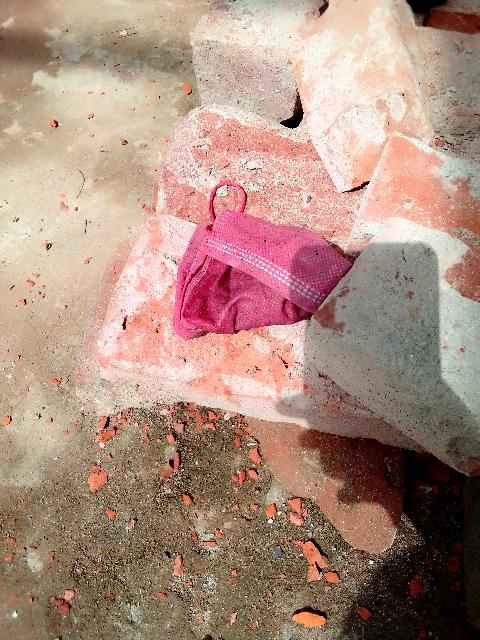mask: (183, 193, 329, 350)
